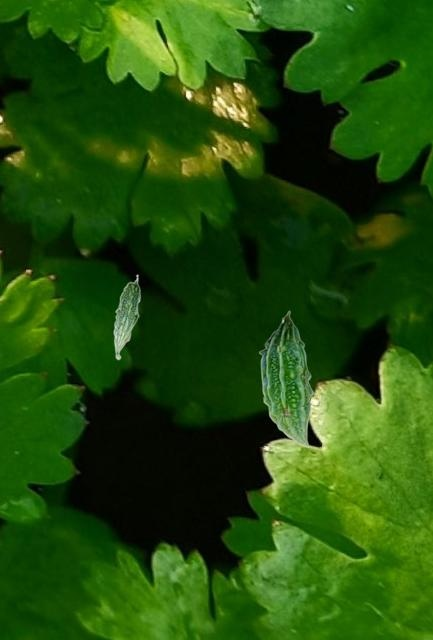ampalaya: (258, 310, 314, 448), (111, 272, 142, 360)
